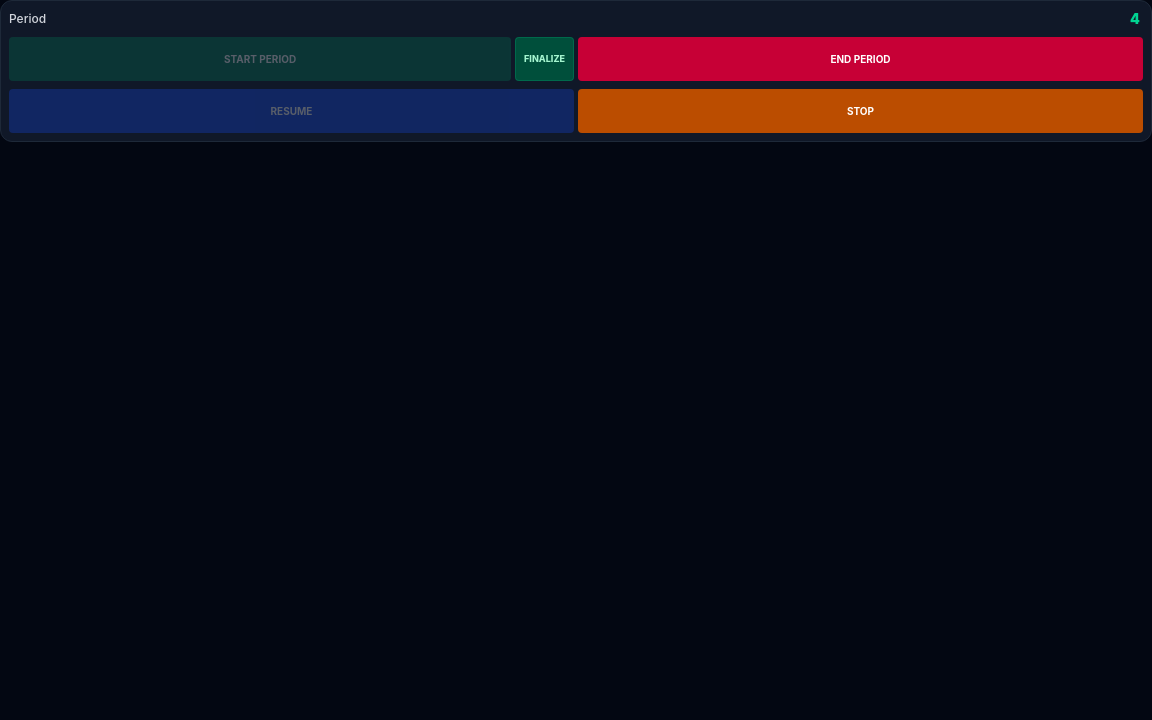
MatchLifecyclePanel Component Integration & State Machine › should end period 4, await endPeriodWithRoster, remain on period 4 displaying MATCH ENDED and open MatchResultModal
Check: the text "4" is shown, box [1130,10,1140,27]
Click the button "END PERIOD" at point(860, 59), box [578,37,1143,81]
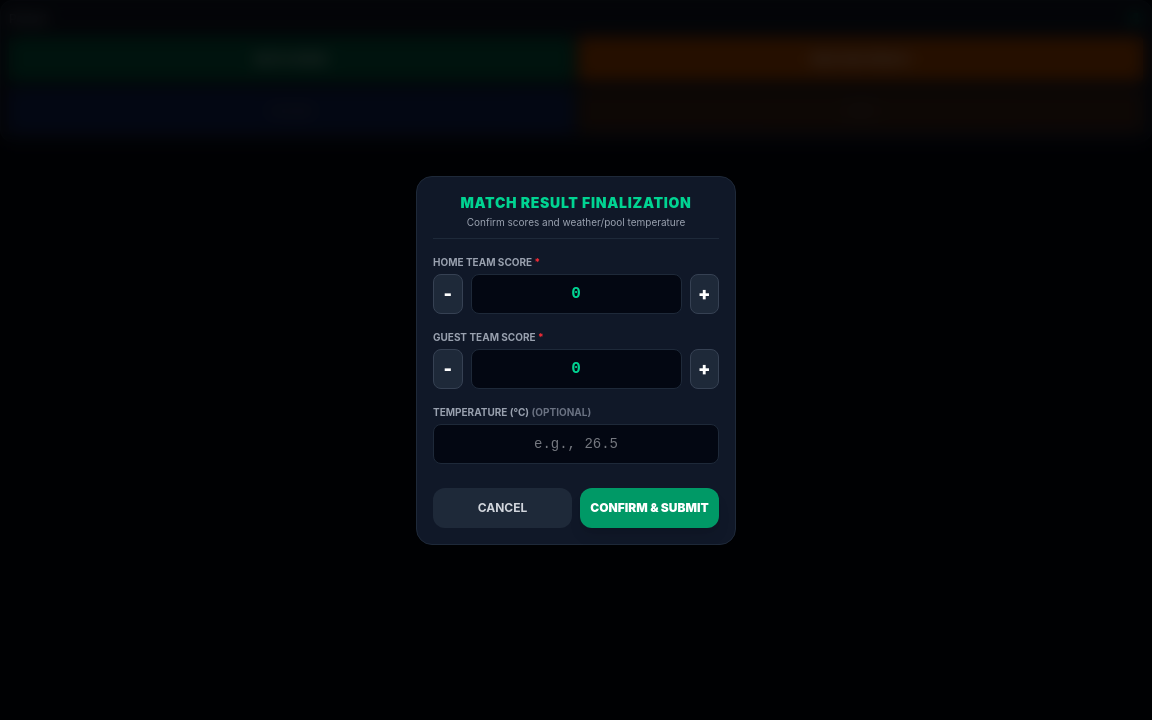
Check: the dialog is shown
Check: the heading "Match Result Finalization" is shown, box [460,194,692,210]
